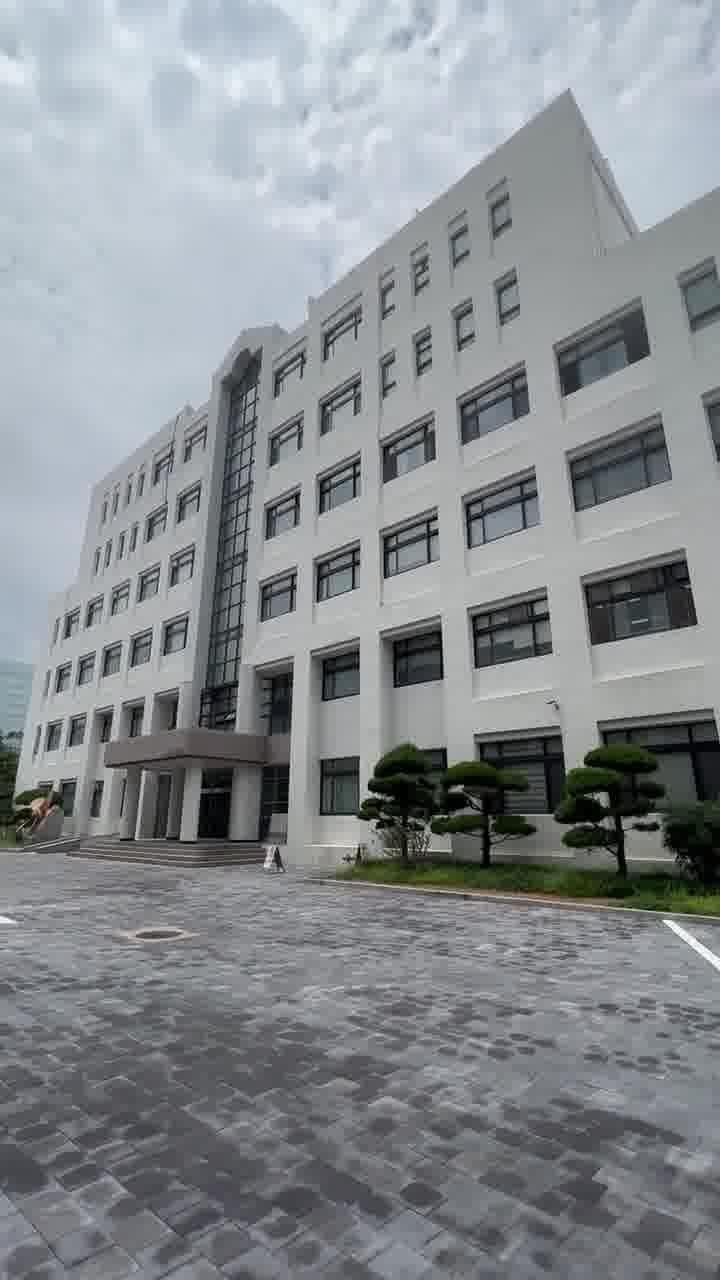building: (62, 232, 720, 766)
